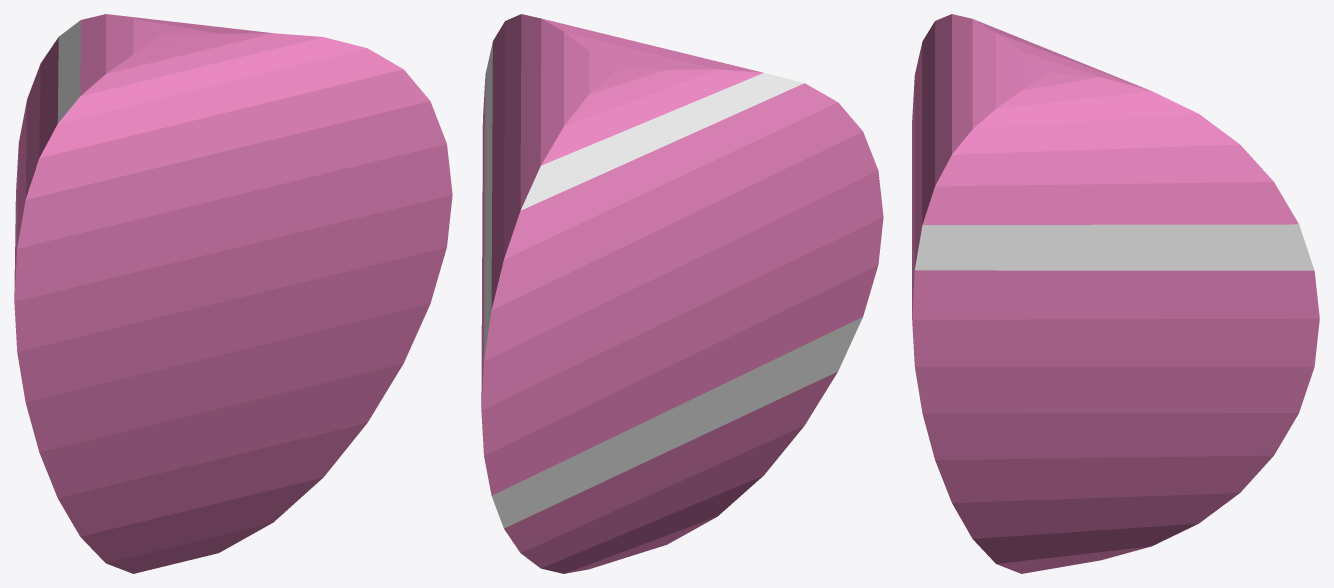
The model's file is katana_seed.glb.
3 renders of one model, left to right at view 1: azimuth 30°, elevation 25°; view 2: azimuth 150°, elevation 25°; view 3: azimuth 270°, elevation 25°, orthographic. The views are drawn at different scales.
Visible parts, largest first — view 1: Sphere; view 2: Sphere; view 3: Sphere.
Part boxes in pixels (x1,y1,x2,y2): Sphere: (14,14,452,573); Sphere: (481,14,883,573); Sphere: (912,14,1319,573).
Bounding box in the file's own units: 0.2369 × 0.2744 × 0.2052.
